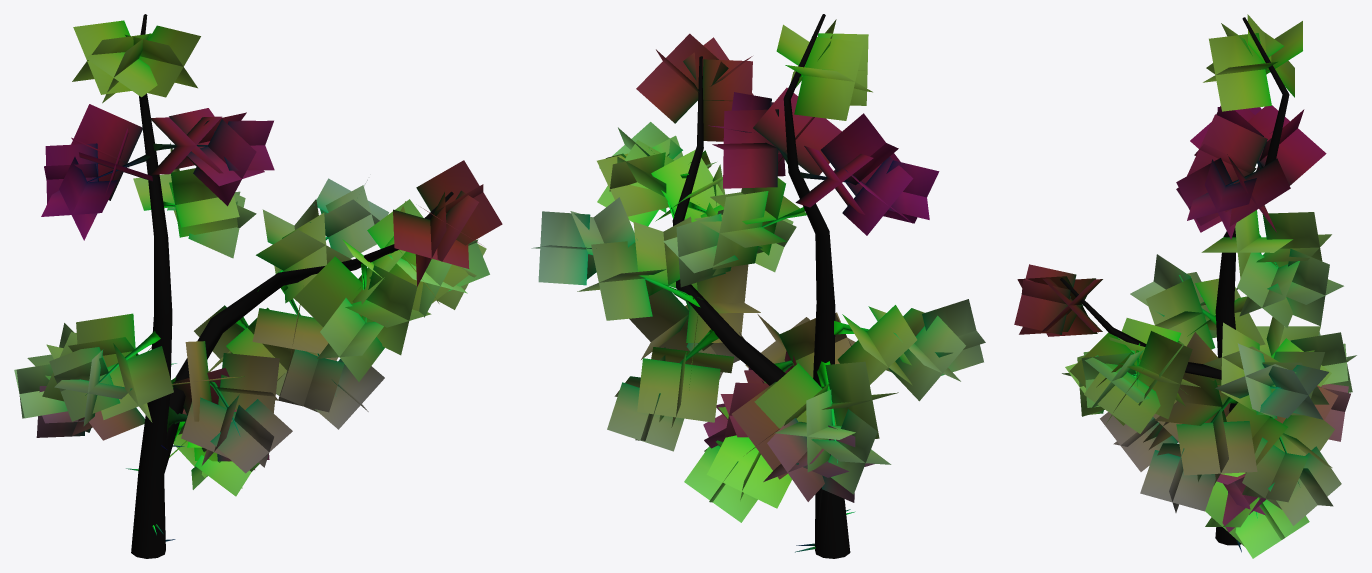
Rendered from URP_P7_Tree_15_LOD_2.fbx.
The picture shows the model from 3 angles, left to right: view 1: azimuth 30°, elevation 25°; view 2: azimuth 150°, elevation 25°; view 3: azimuth 270°, elevation 25°; orthographic projection. The views are drawn at different scales.
Parts seen in each view (by area): view 1: Tree_15_LOD_2; view 2: Tree_15_LOD_2; view 3: Tree_15_LOD_2.
Part boxes in pixels (x1=…): Tree_15_LOD_2: x1=14, y1=14, x2=502, y2=558; Tree_15_LOD_2: x1=531, y1=14, x2=985, y2=558; Tree_15_LOD_2: x1=1014, y1=14, x2=1356, y2=558.
Size of the model in its own units: 392 by 493 by 294.
